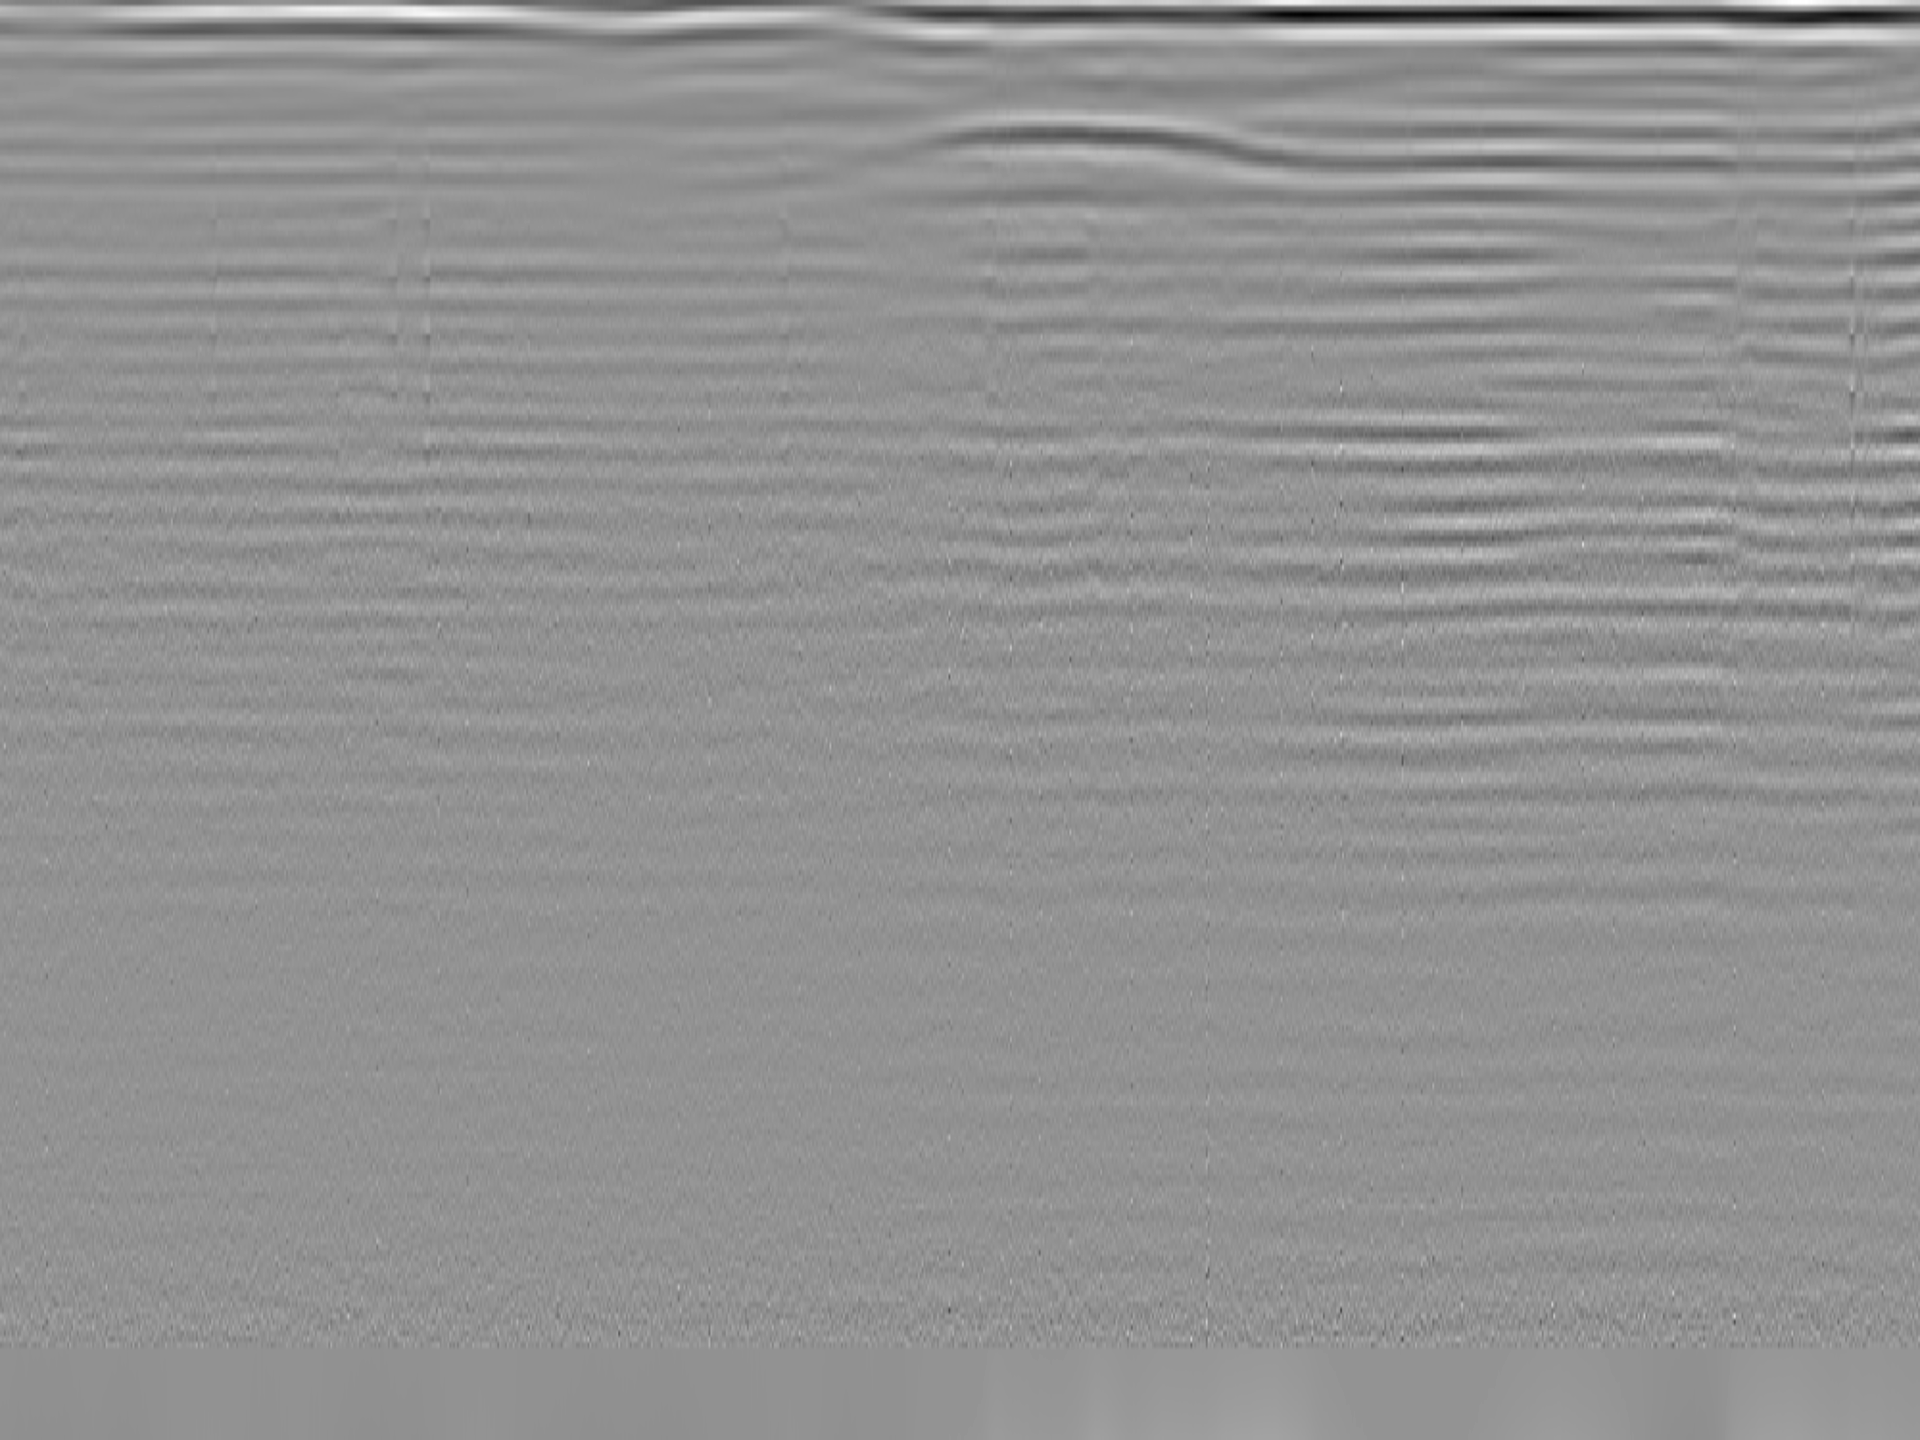Tunnel: (809, 115, 1421, 185)
